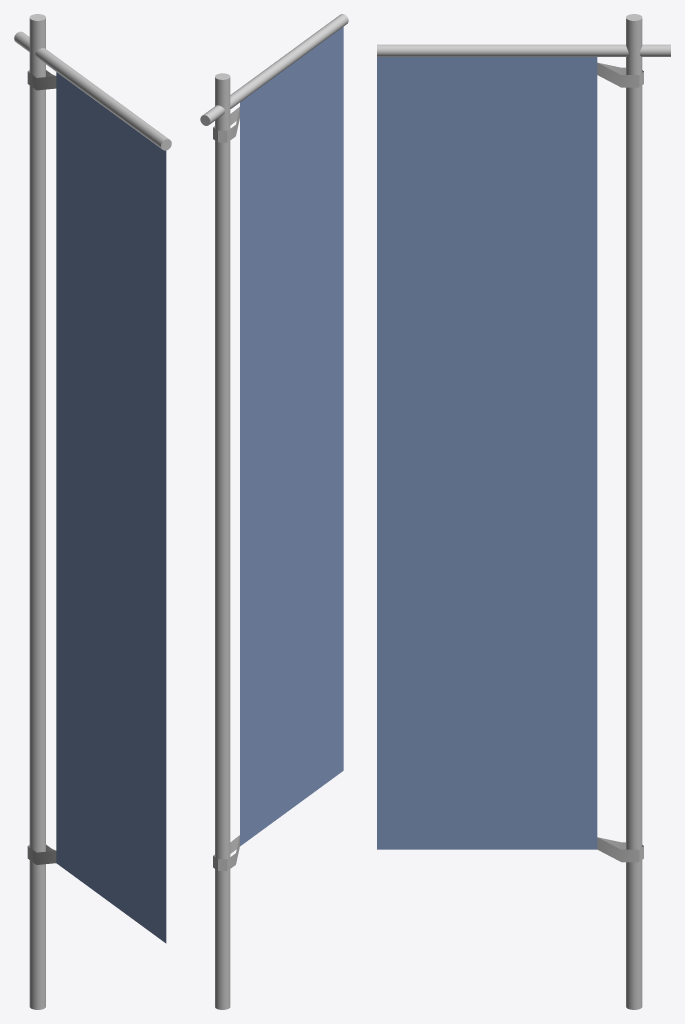
The model's file is flag.fbx.
3 views of the same model, side by side, from view 1: azimuth 30°, elevation 25°; view 2: azimuth 150°, elevation 25°; view 3: azimuth 270°, elevation 25° (orthographic). The views are drawn at different scales.
Visible parts, largest first — view 1: flag; view 2: flag; view 3: flag.
Boxes of the visible parts, bbox=[...] form: flag: bbox=[14, 14, 171, 1009]; flag: bbox=[200, 14, 348, 1009]; flag: bbox=[377, 14, 670, 1009].
Size of the model in its own units: 2.41 by 148 by 40.
